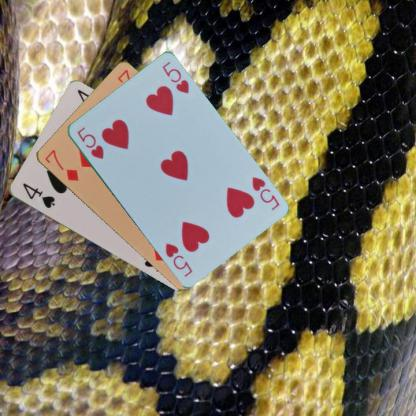4s: (20, 180, 56, 210)
5h: (248, 174, 281, 211), (74, 124, 105, 161)
7d: (42, 146, 80, 182)
